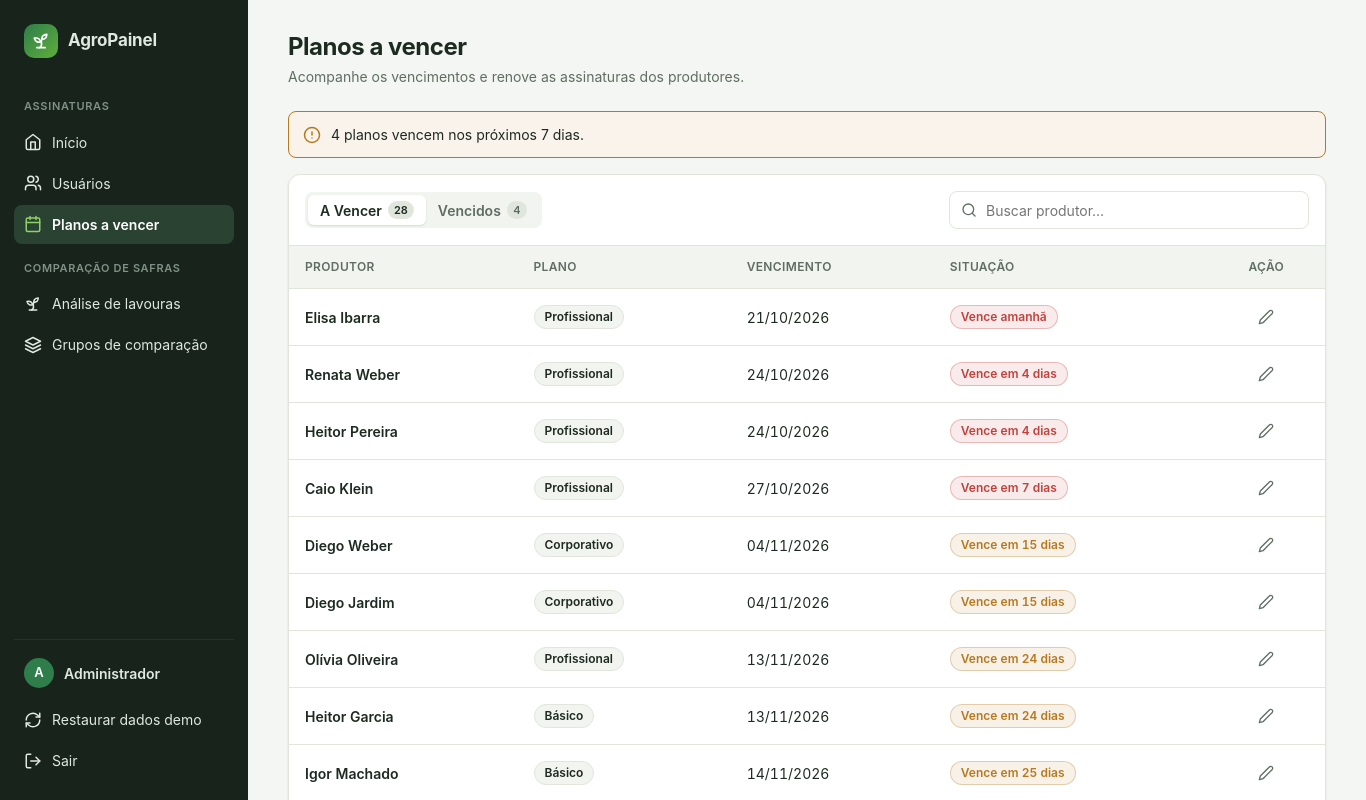
it: Planos a vencer › valida a nova data de vencimento
Click the button named "Alterar vencimento de Elisa Ibarra". click: (1266,317)
box: [1250,301,1282,333]
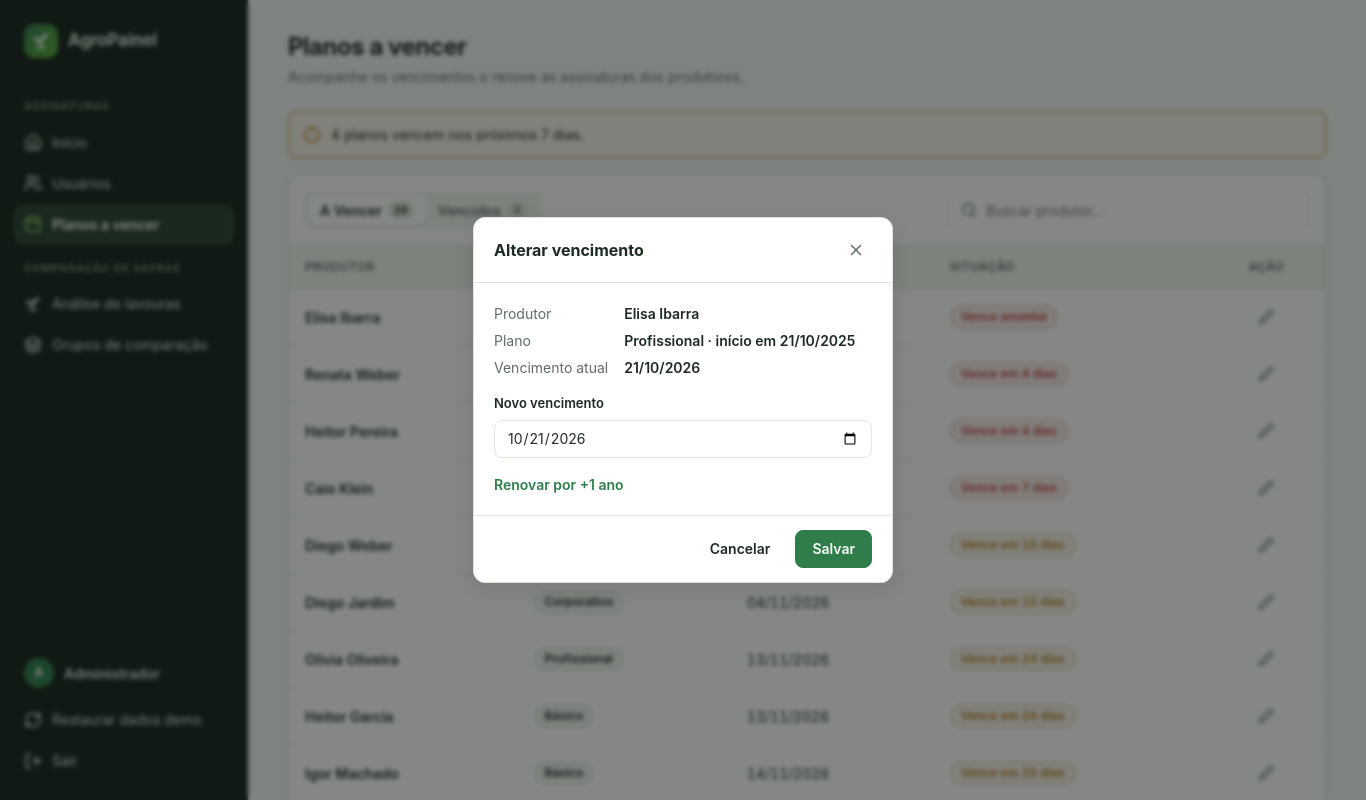
Check: the dialog is shown, box [473,217,893,583]
Type "2000-01-01" into the date field labelled "Novo vencimento". click: (683,439)
box: [494,420,872,458]
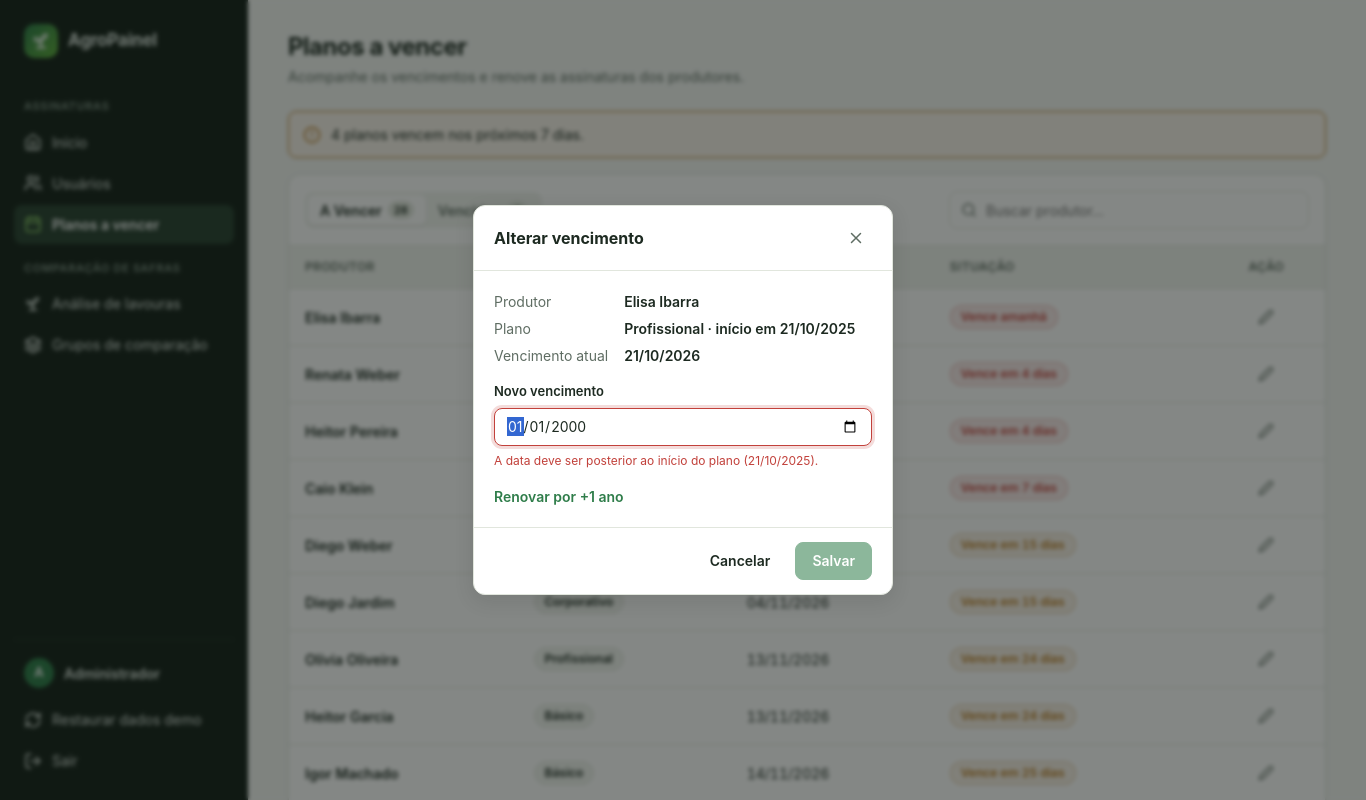
Check: the text with class "field__error" shows "posterior ao início do plano", box [494,453,818,468]
Check: the button "Salvar" is disabled, box [795,542,872,580]
